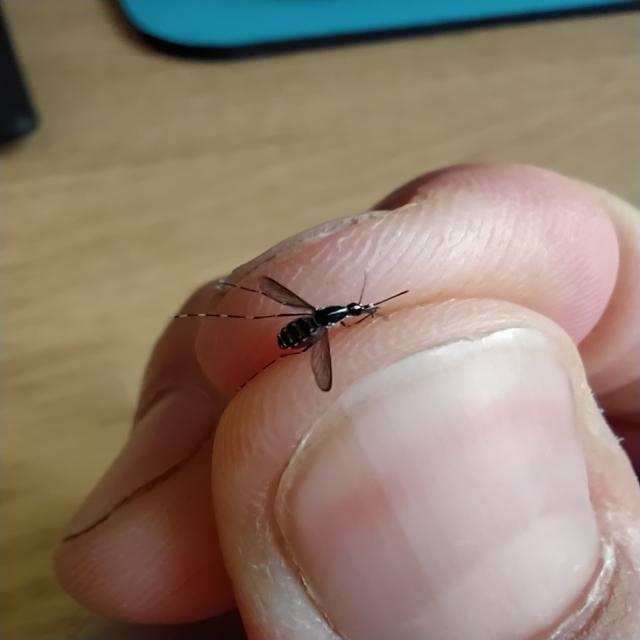albopictus: (170, 246, 410, 402)
